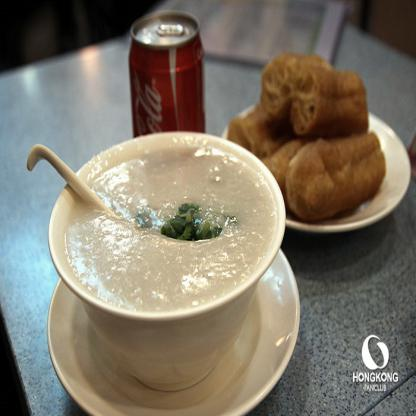Joke: (61, 136, 282, 337)
